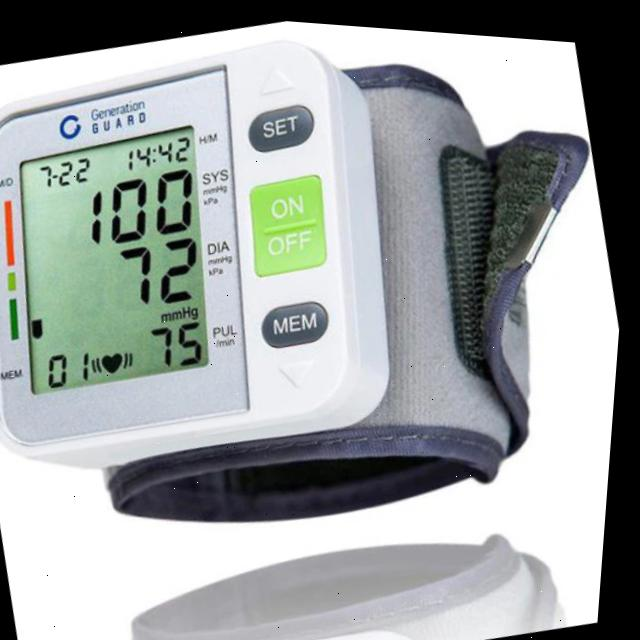dia: (109, 226, 212, 313)
pul: (143, 309, 219, 373)
ssd: (17, 121, 215, 394)
sys: (65, 154, 215, 249)
